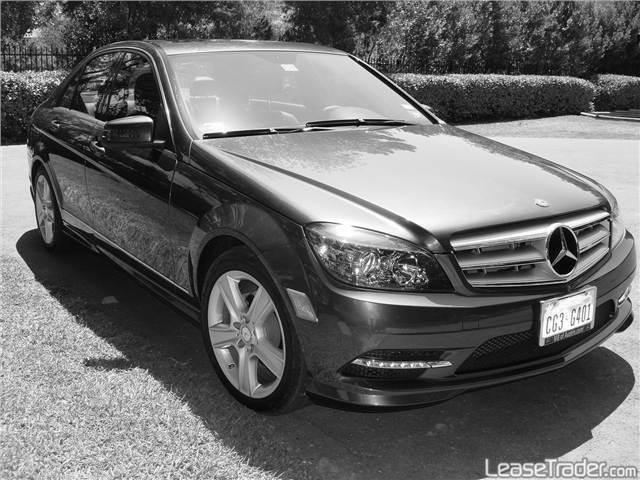car: (23, 36, 639, 421)
